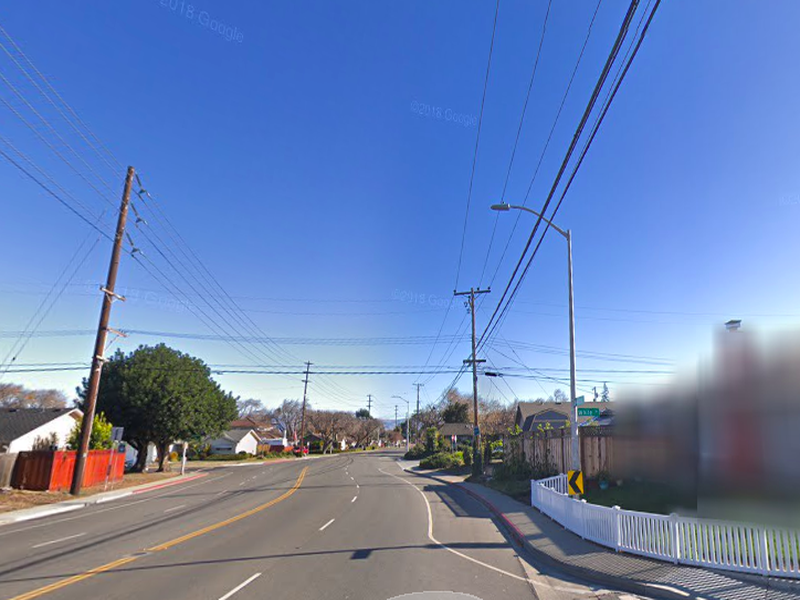tree: (72, 342, 240, 474)
utility_pole: (97, 158, 153, 267), (450, 280, 495, 315)
